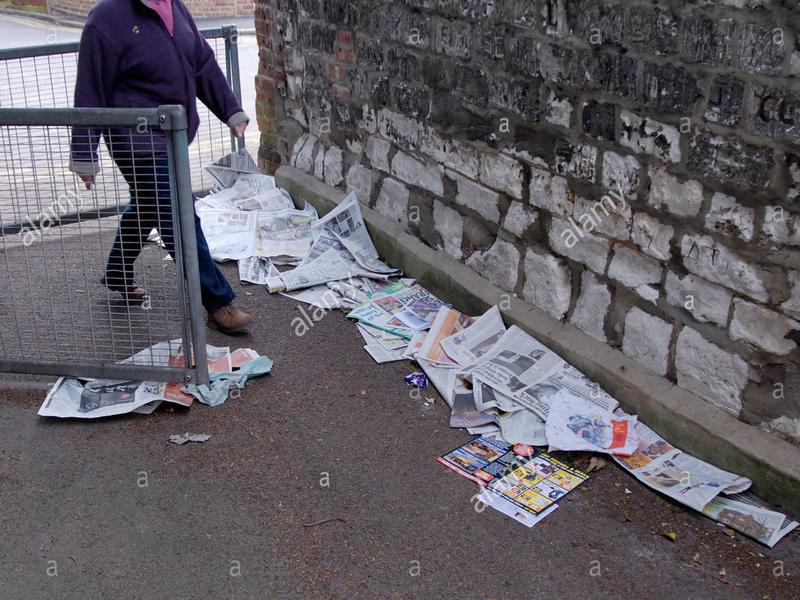paper: (192, 146, 407, 308), (608, 414, 800, 552), (348, 290, 510, 398), (433, 425, 593, 531), (465, 323, 624, 427), (38, 371, 199, 421)
